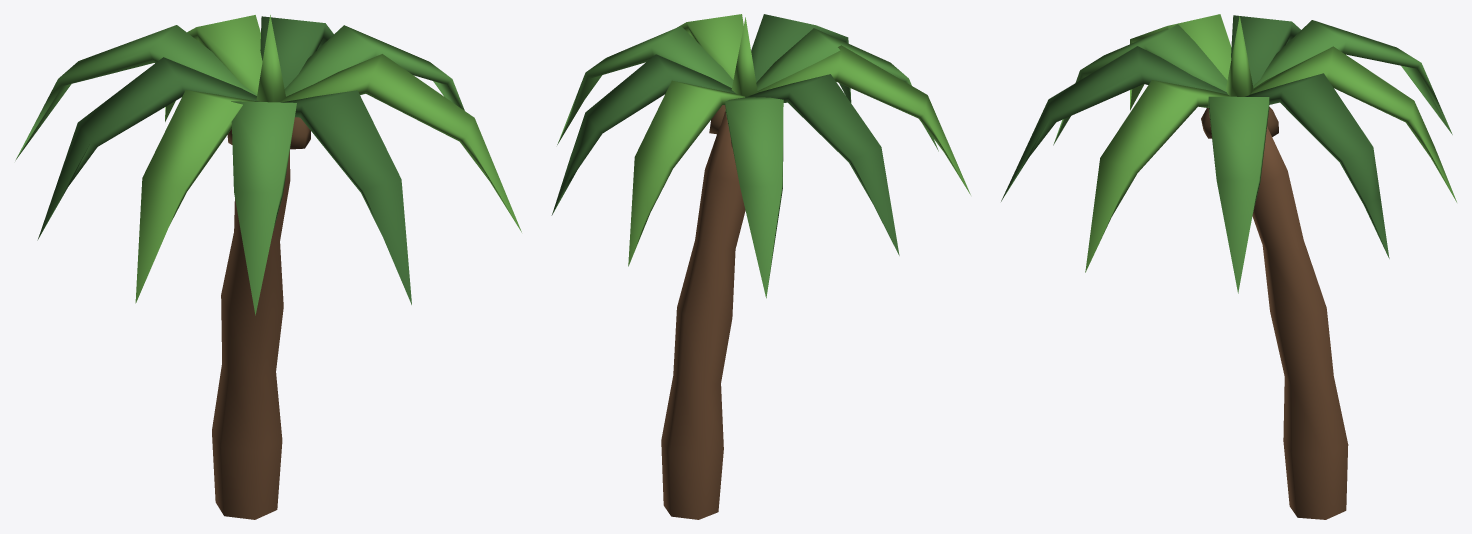
Rendered from tree_palm_1.obj.
The picture shows the model from 3 angles, left to right: view 1: azimuth 30°, elevation 25°; view 2: azimuth 150°, elevation 25°; view 3: azimuth 270°, elevation 25°; orthographic projection. The views are drawn at different scales.
Parts seen in each view (by area): view 1: source_component_000, source_component_009, source_component_011, source_component_010, source_component_012, source_component_008, source_component_007, source_component_004, source_component_006, source_component_005, source_component_013; view 2: source_component_000, source_component_007, source_component_006, source_component_008, source_component_005, source_component_009, source_component_004, source_component_010, source_component_011, source_component_012, source_component_013; view 3: source_component_000, source_component_012, source_component_004, source_component_005, source_component_011, source_component_006, source_component_007, source_component_010, source_component_008, source_component_009, source_component_013.
Boxes of the visible parts, x1,y1,x2,y2 form: source_component_000: (212, 151, 290, 519); source_component_009: (135, 90, 259, 303); source_component_011: (281, 90, 411, 304); source_component_010: (231, 101, 296, 315); source_component_012: (280, 54, 521, 232); source_component_008: (37, 57, 258, 240); source_component_007: (15, 25, 257, 160); source_component_004: (284, 25, 464, 110); source_component_006: (165, 15, 262, 121); source_component_005: (260, 16, 333, 88); source_component_013: (256, 15, 285, 102); source_component_000: (661, 110, 745, 519); source_component_007: (725, 96, 783, 298); source_component_006: (628, 80, 744, 266); source_component_008: (748, 74, 899, 255); source_component_005: (551, 54, 735, 215); source_component_009: (757, 45, 970, 194); source_component_004: (557, 26, 733, 144); source_component_010: (756, 28, 938, 151); source_component_011: (751, 14, 851, 102); source_component_012: (677, 14, 743, 79); source_component_013: (731, 17, 757, 96); source_component_000: (1252, 126, 1348, 519); source_component_012: (1085, 80, 1230, 272); source_component_004: (1208, 96, 1269, 293); source_component_005: (1245, 73, 1389, 258); source_component_011: (1001, 46, 1227, 201); source_component_006: (1251, 46, 1456, 202); source_component_007: (1253, 20, 1452, 134); source_component_010: (1053, 24, 1227, 145); source_component_008: (1231, 15, 1300, 85); source_component_009: (1130, 14, 1231, 110); source_component_013: (1226, 16, 1253, 96).
Size of the model in its own units: 0.8759 by 1.06 by 0.9074.
